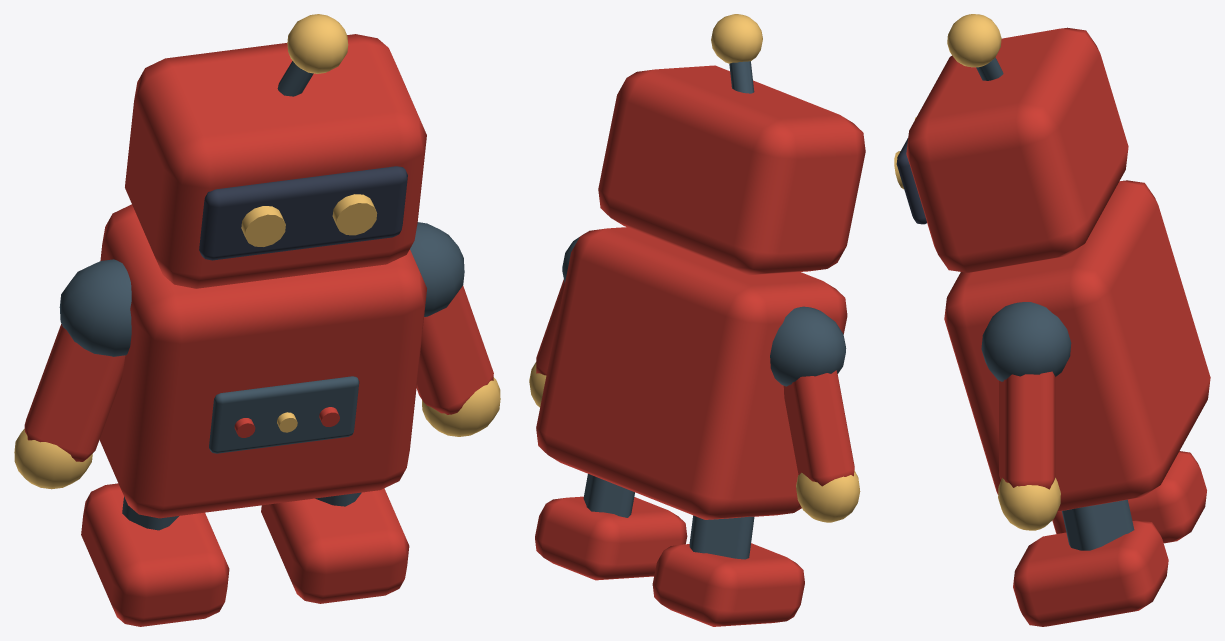
Rendered from toyrobot.glb.
The picture shows the model from 3 angles, left to right: view 1: azimuth 30°, elevation 25°; view 2: azimuth 150°, elevation 25°; view 3: azimuth 270°, elevation 25°; orthographic projection. The views are drawn at different scales.
Parts seen in each view (by area): view 1: toyrobot; view 2: toyrobot; view 3: toyrobot.
Part boxes in pixels (box(x1,y1,x2,y2)): toyrobot: box(14, 14, 500, 626); toyrobot: box(529, 14, 865, 626); toyrobot: box(894, 14, 1210, 626).
Size of the model in its own units: 0.7143 by 1 by 0.5085.
